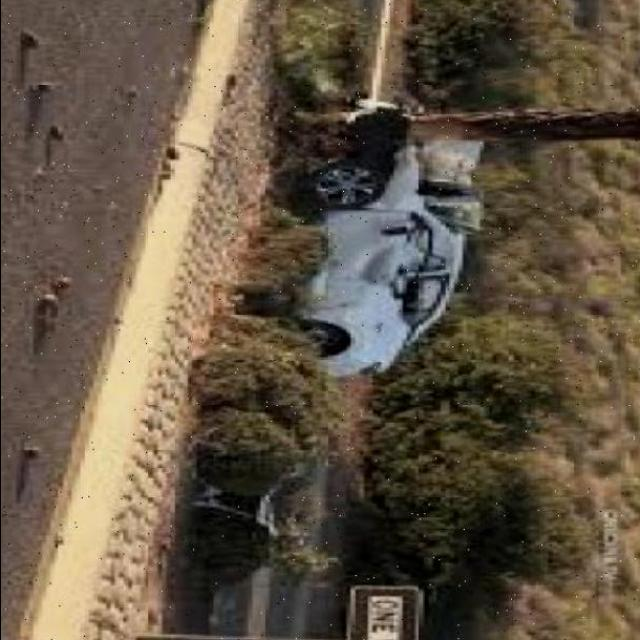accident: (289, 98, 483, 378)
